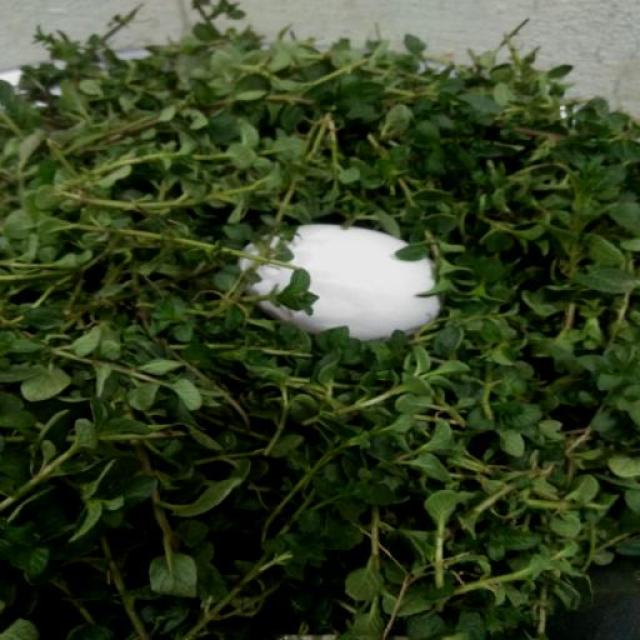telur: (236, 195, 462, 358)
